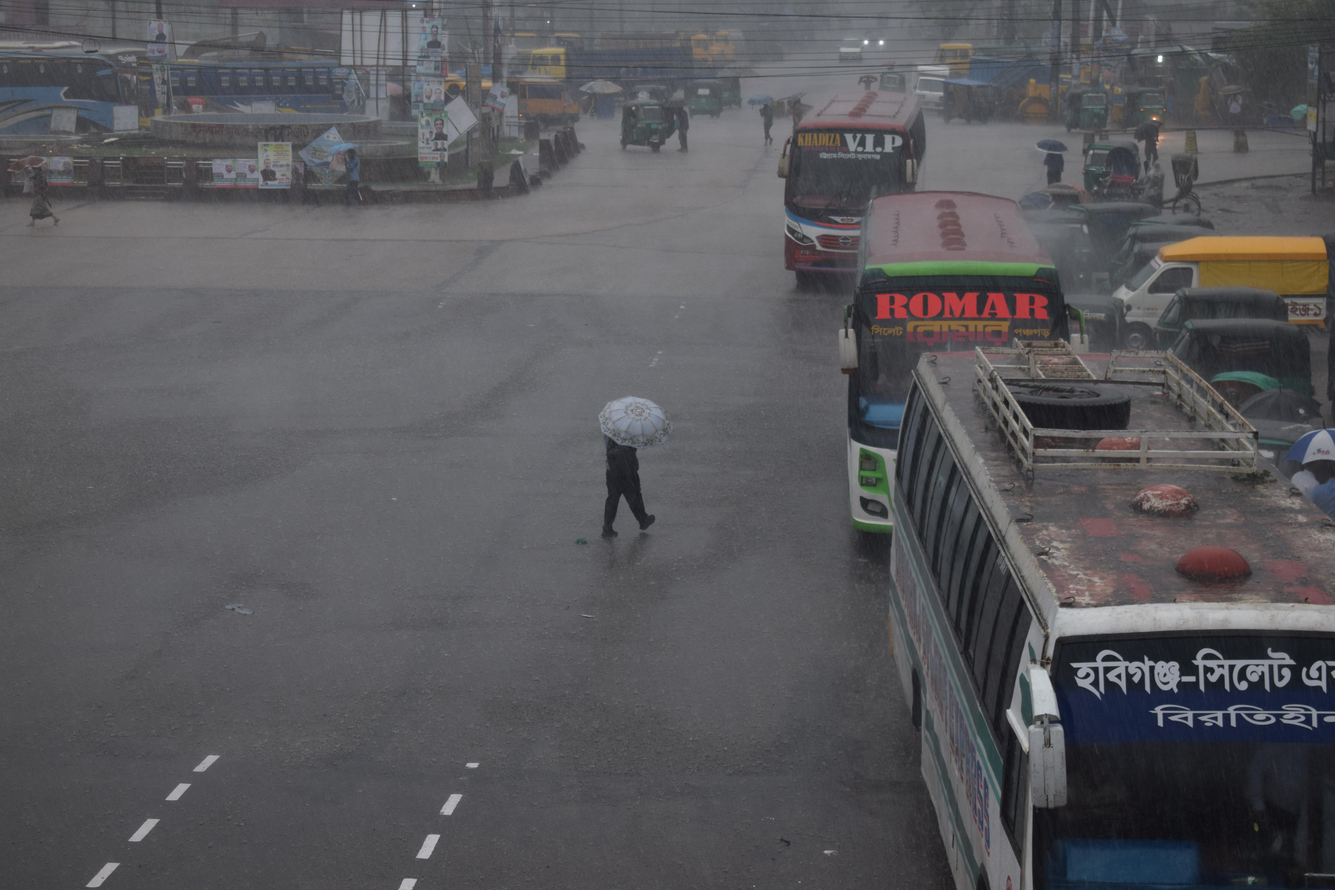Bus: (836, 320, 1335, 890), (801, 168, 1085, 558), (745, 53, 946, 306), (118, 33, 360, 154), (0, 6, 159, 181)
Car: (1097, 204, 1335, 331), (477, 67, 597, 142)
Truck: (504, 30, 693, 108)
